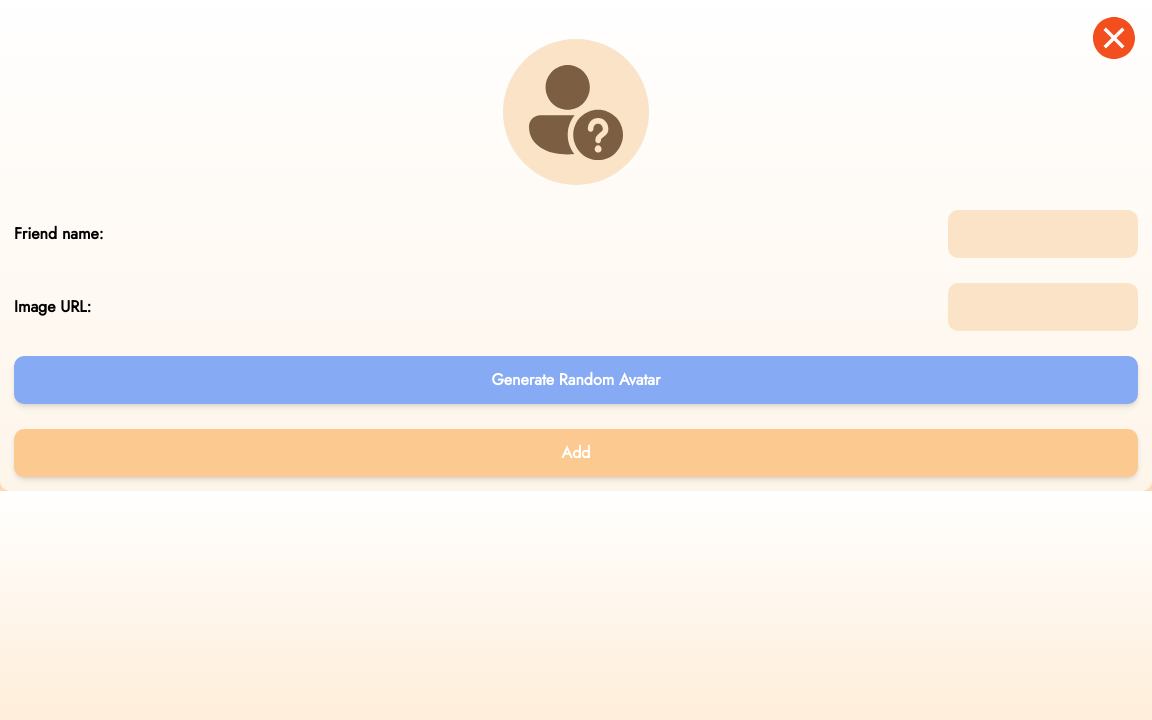
Test case: Given an AddFriendForm component › When it is rendered and the user fills all required fields › Then the Add button should be enabled
Type "https://i.pravatar.cc/" into the field labelled "Image URL:" at (1043, 307), box [948,283,1138,331]
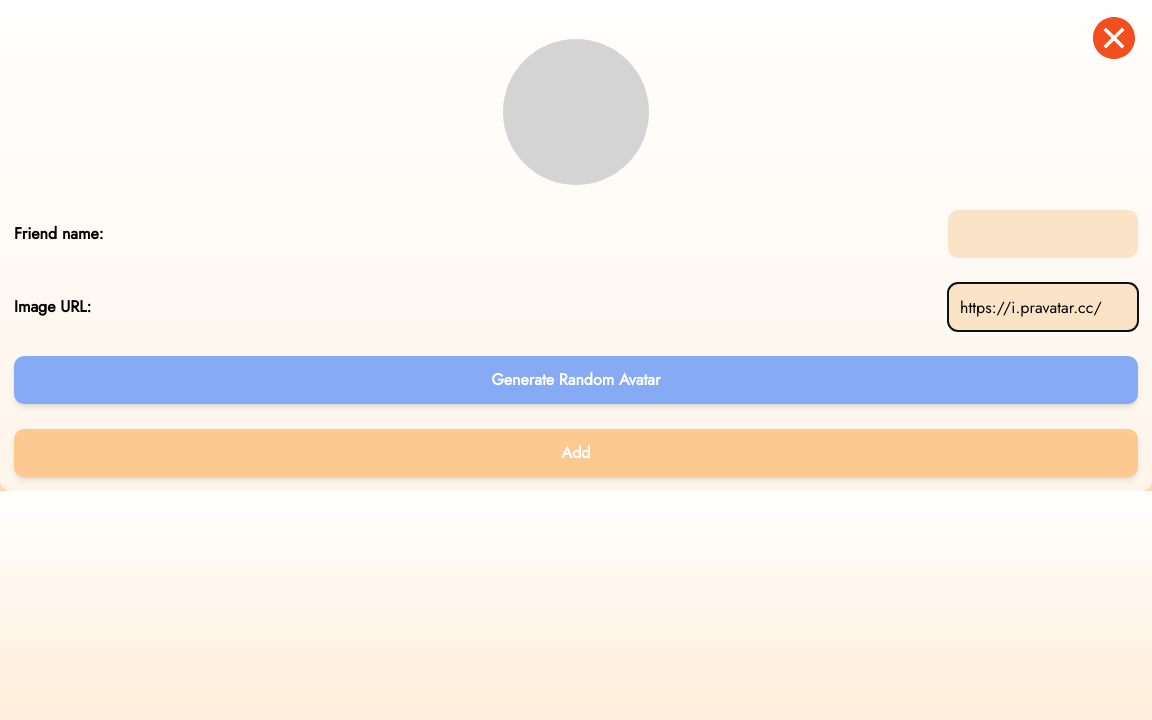
Type "Juan" into the field labelled "Friend name:" at (1043, 234), box [948,210,1138,258]
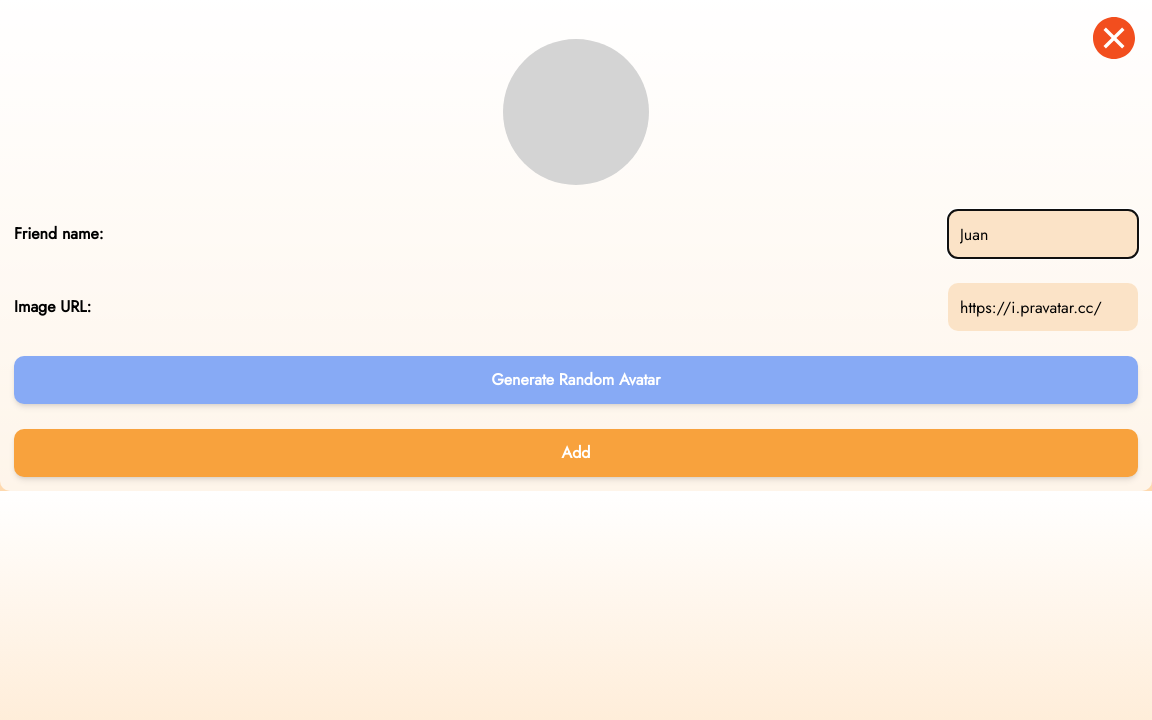
Result: the button "add" is enabled at [14,429,1138,477]
